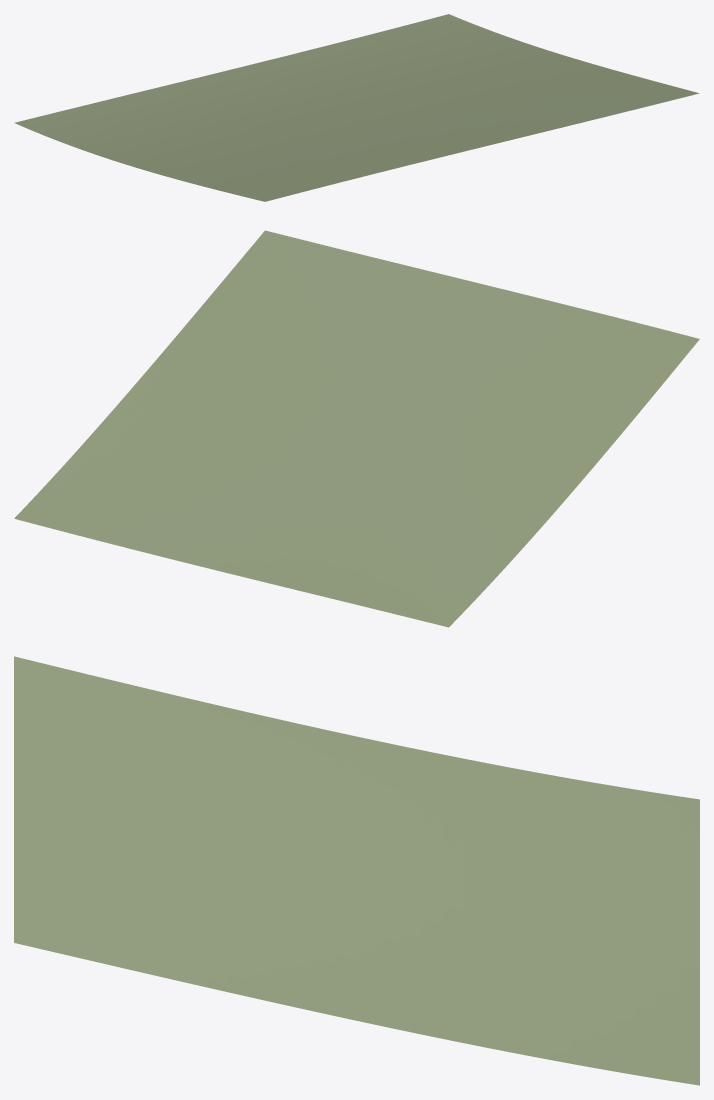
The model's file is expanse-27-4.glb.
The picture shows the model from 3 angles, top to bottom: view 1: azimuth 30°, elevation 25°; view 2: azimuth 150°, elevation 25°; view 3: azimuth 270°, elevation 25°; orthographic projection. The views are drawn at different scales.
Visible parts, largest first — view 1: expanse-27-4; view 2: expanse-27-4; view 3: expanse-27-4.
Part boxes in pixels (left/top/right/bottom): expanse-27-4: left=14, top=14, right=699, bottom=201; expanse-27-4: left=14, top=230, right=699, bottom=627; expanse-27-4: left=14, top=656, right=699, bottom=1085.
Bounding box in the file's own units: 256 × 60.31 × 256.
